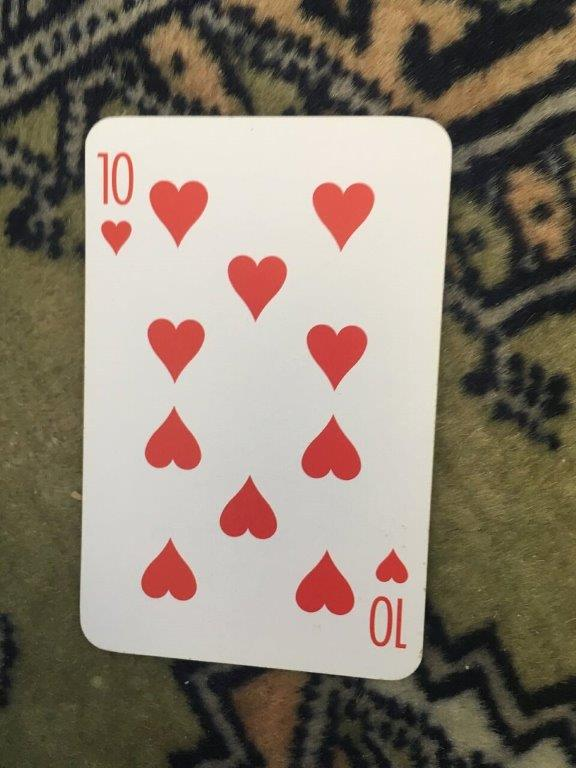10H: (75, 109, 456, 686)
